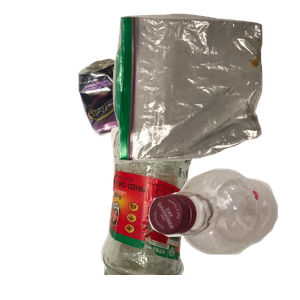glass: (98, 120, 286, 300)
metal: (75, 56, 198, 185)
plastic: (146, 166, 300, 300)
trash: (110, 11, 300, 167)
